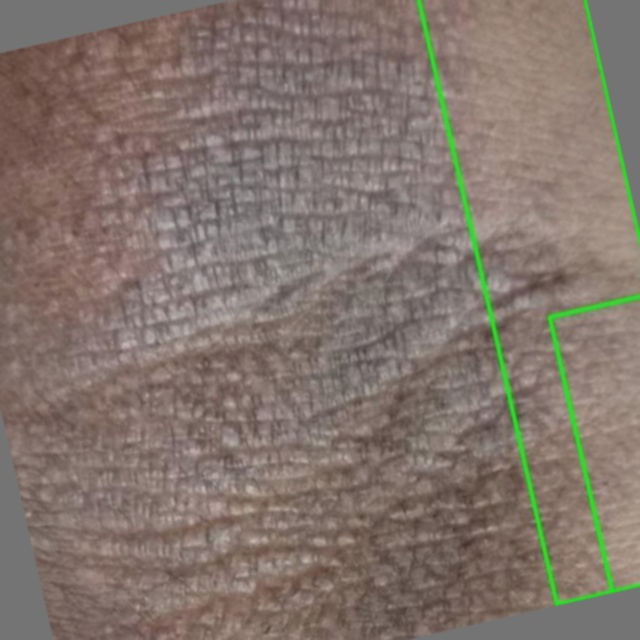Eczema: (419, 0, 639, 604)
